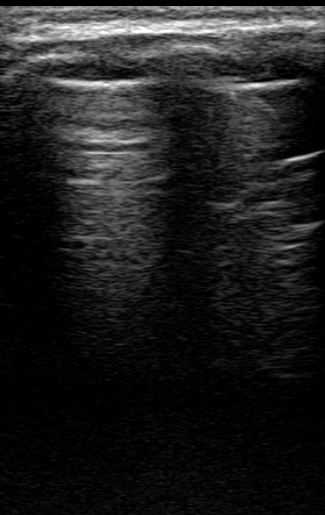irrelevant: (1, 1, 325, 42)
